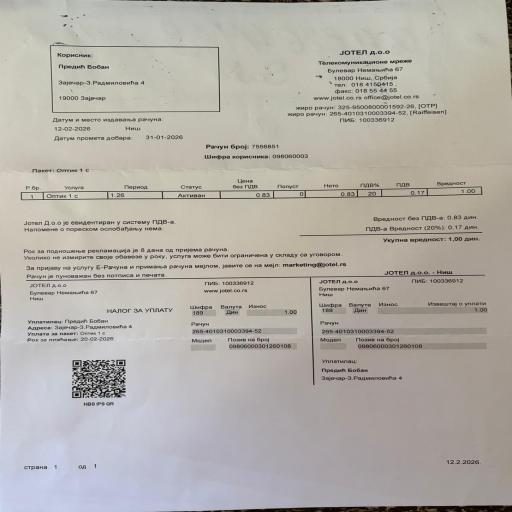jotel: (21, 178, 490, 202)
jotel_uplatnica: (316, 298, 500, 356)
